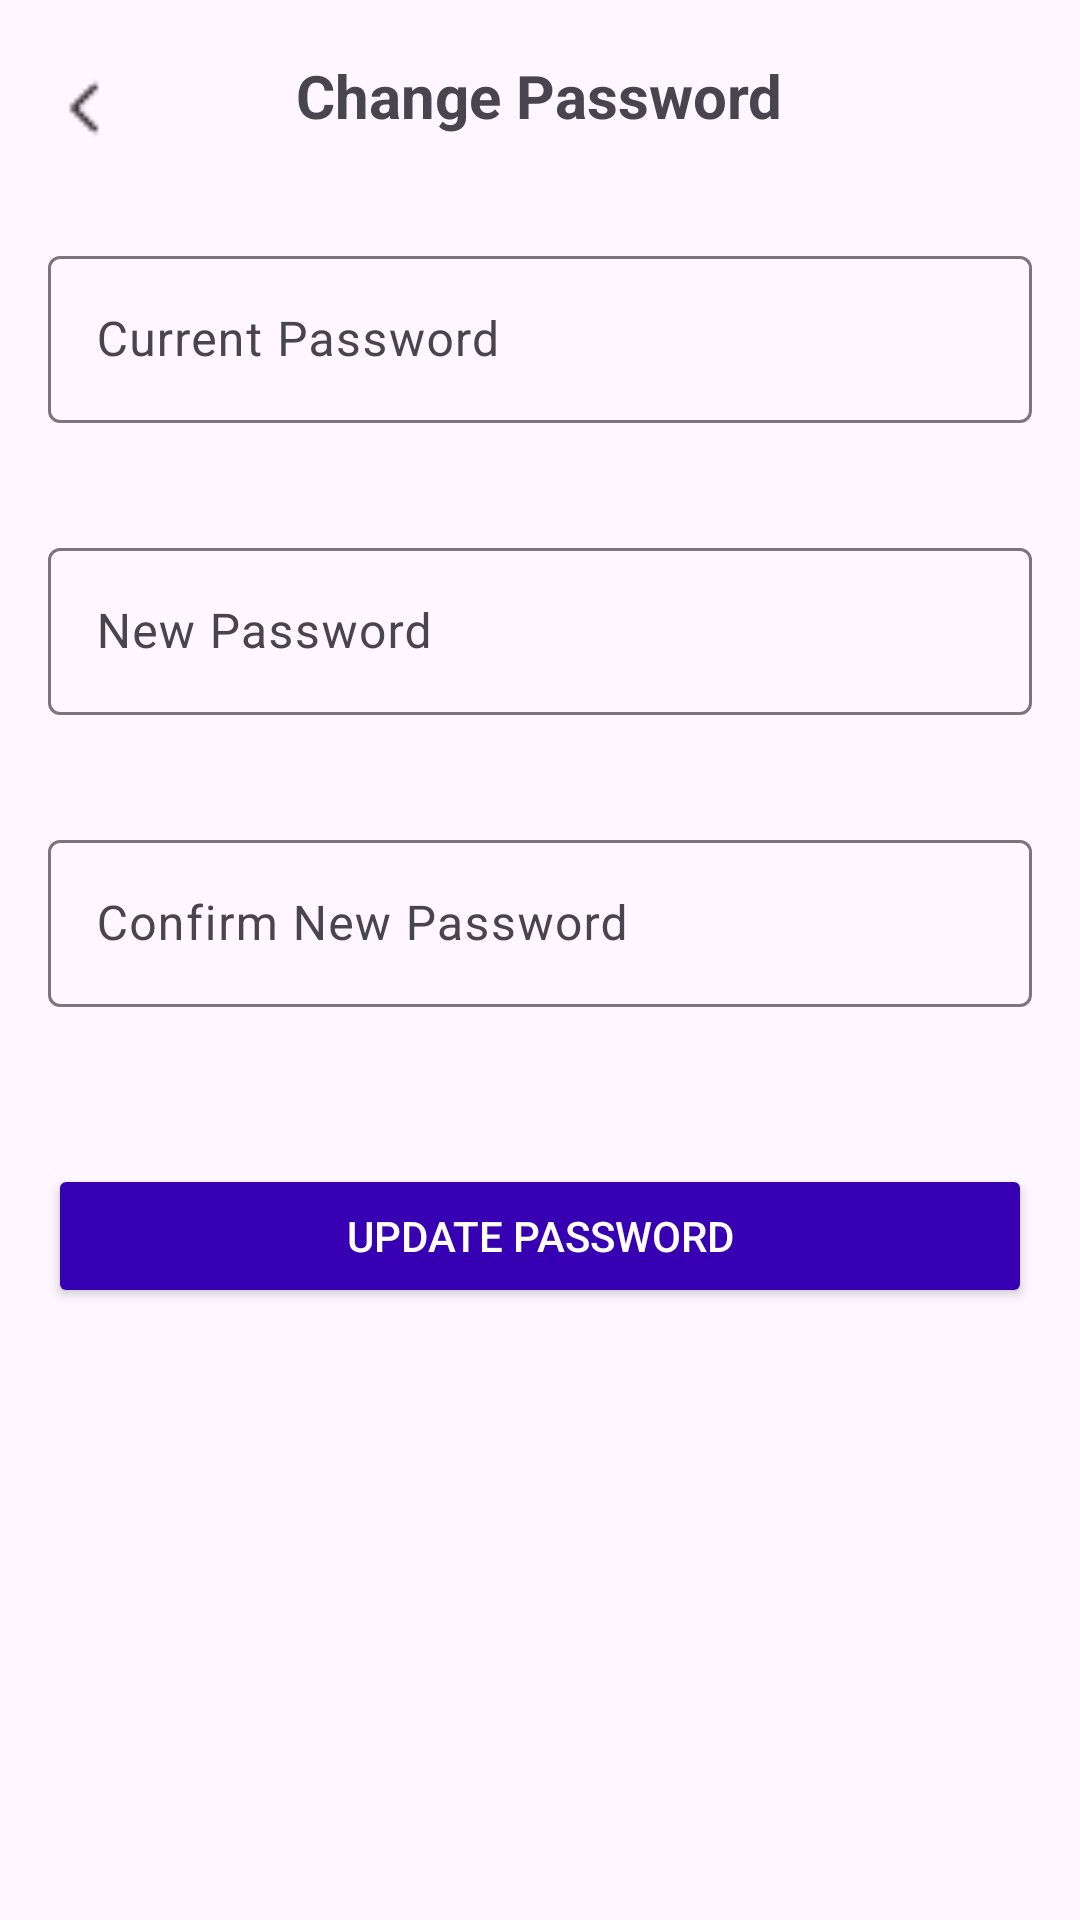

Screen size 1080 x 1920. Icon name, then its center in pixels as (x=x, y=y):
back: (x=84, y=107)
